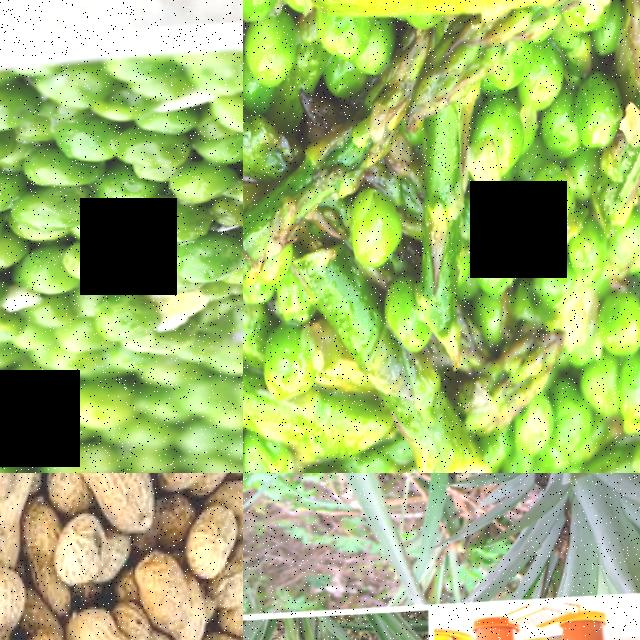peanuts: (83, 473, 158, 542), (134, 553, 195, 637), (51, 516, 114, 592), (184, 508, 239, 586)
peas: (0, 52, 243, 310), (475, 53, 616, 215), (579, 232, 640, 436)
